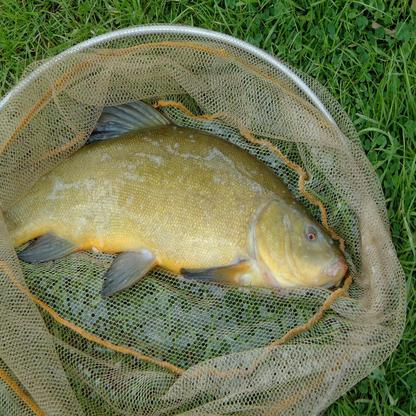fish: (3, 123, 350, 302)
